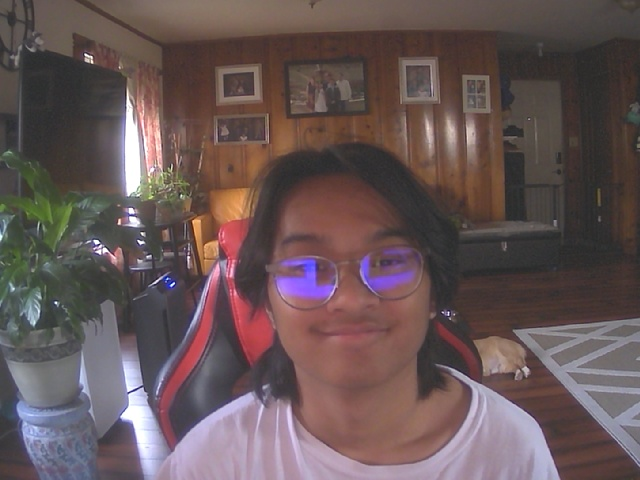happy: (258, 157, 440, 390)
